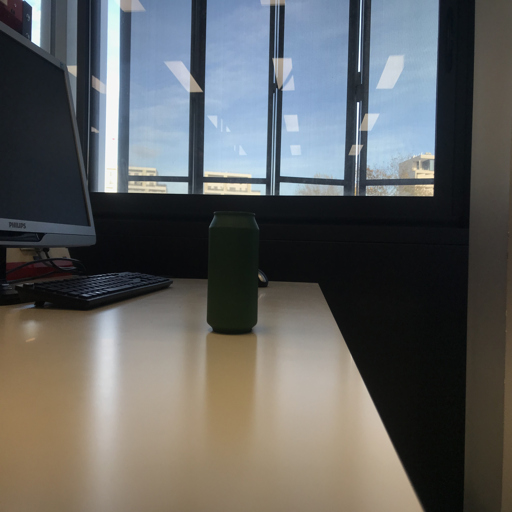Green_Can: (203, 208, 261, 334)
